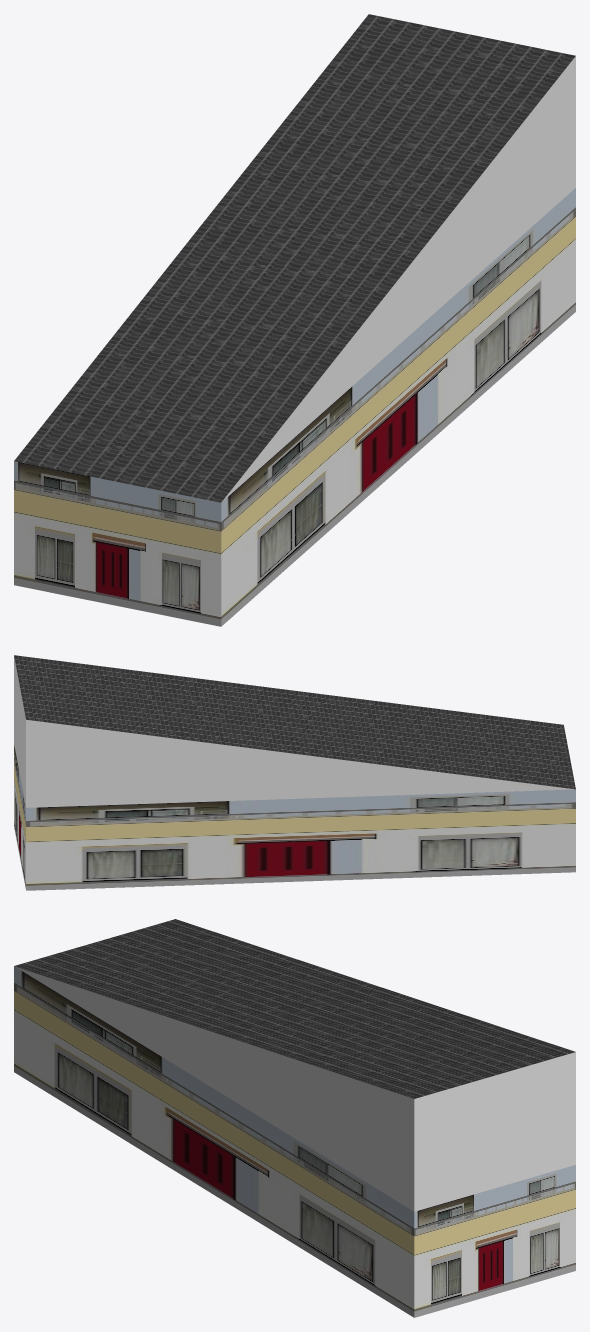
3 renders of one model, top to bottom at view 1: azimuth 30°, elevation 25°; view 2: azimuth 150°, elevation 25°; view 3: azimuth 270°, elevation 25°, orthographic. The views are drawn at different scales.
Visible parts, largest first — view 1: CityEngineMaterial_16_m, CityEngineMaterial_15_m, CityEngineMaterial_3_m; view 2: CityEngineMaterial_15_m, CityEngineMaterial_16_m, CityEngineMaterial_3_m; view 3: CityEngineMaterial_15_m, CityEngineMaterial_3_m, CityEngineMaterial_16_m.
Part boxes in pixels (x1=…): CityEngineMaterial_16_m: x1=14, y1=14, x2=575, y2=502; CityEngineMaterial_15_m: x1=14, y1=188, x2=575, y2=626; CityEngineMaterial_3_m: x1=222, y1=56, x2=575, y2=501; CityEngineMaterial_15_m: x1=14, y1=744, x2=575, y2=890; CityEngineMaterial_16_m: x1=14, y1=655, x2=575, y2=789; CityEngineMaterial_3_m: x1=14, y1=656, x2=573, y2=807; CityEngineMaterial_15_m: x1=14, y1=966, x2=575, y2=1317; CityEngineMaterial_3_m: x1=15, y1=966, x2=575, y2=1211; CityEngineMaterial_16_m: x1=14, y1=919, x2=575, y2=1098.
Size of the model in its own units: 47.73 by 16.65 by 38.72.
